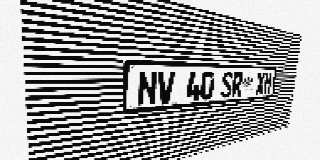0: (200, 71, 215, 100)
4: (186, 71, 202, 102)
M: (263, 73, 273, 94)
N: (137, 70, 158, 106)
R: (231, 72, 244, 97)
S: (221, 72, 234, 98)
V: (157, 71, 175, 104)
X: (255, 72, 265, 95)
